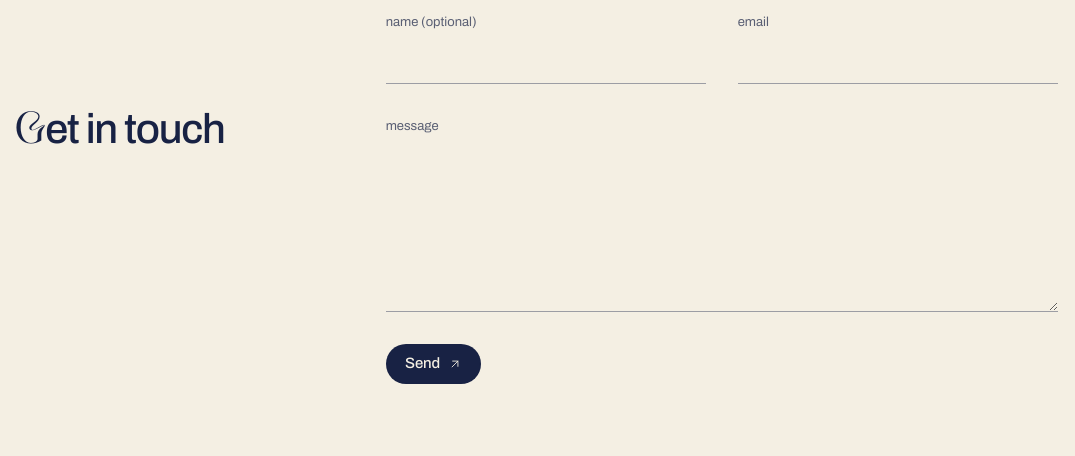
Test: blocks a second send within the cooldown
Type "a@b.co" into the field labelled "email" at [898, 61], box 738,38 -> 1058,84
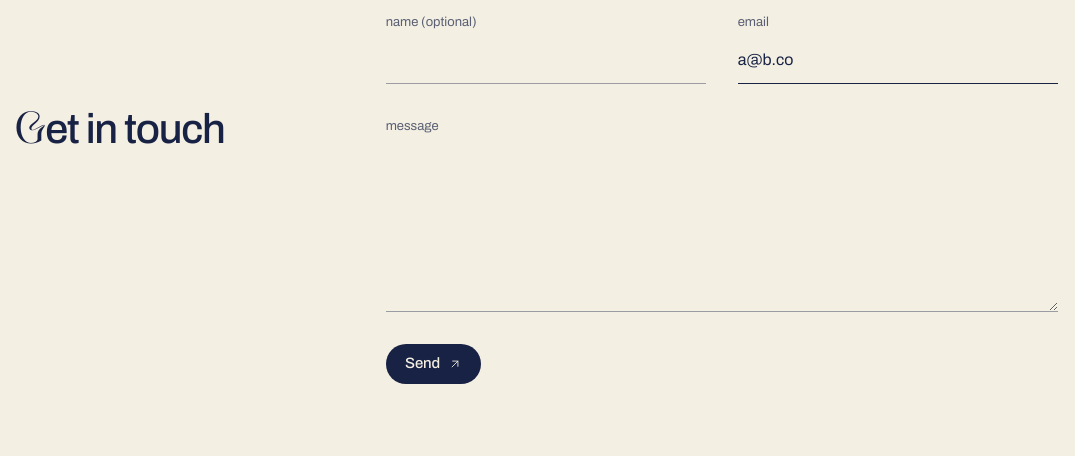
Type "hello <i>there</i>" into the text box labelled "message" at [722, 227], box 386,142 -> 1058,312
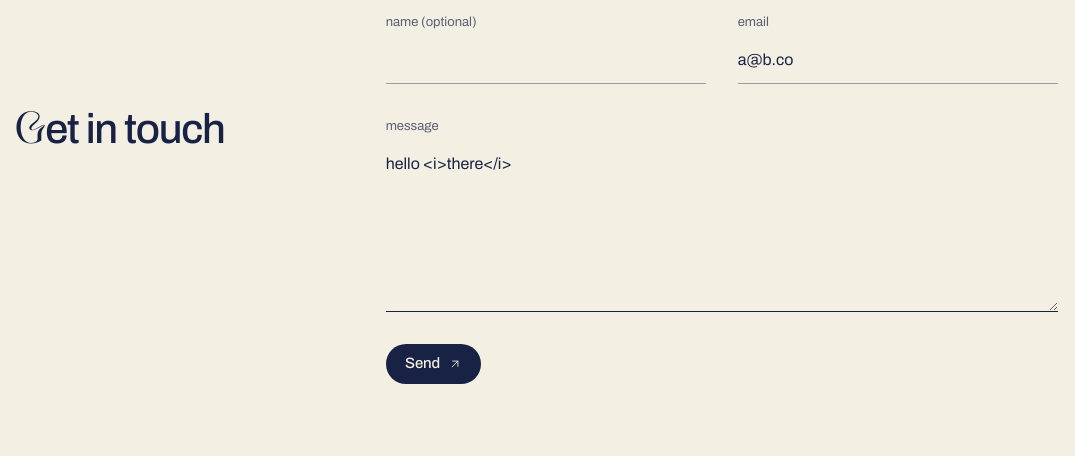
Click the button "Send" at [434, 364], box 386,344 -> 482,384
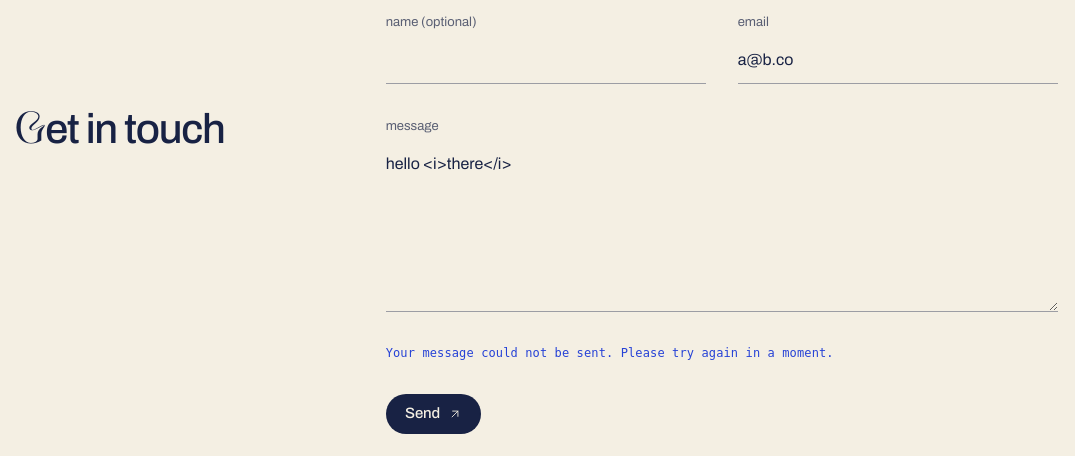
Expected: the message "Your message could not be sent. Please try again in a moment." is shown, 386,346 -> 834,360
Click the button "Send" at [434, 414], box 386,394 -> 482,434
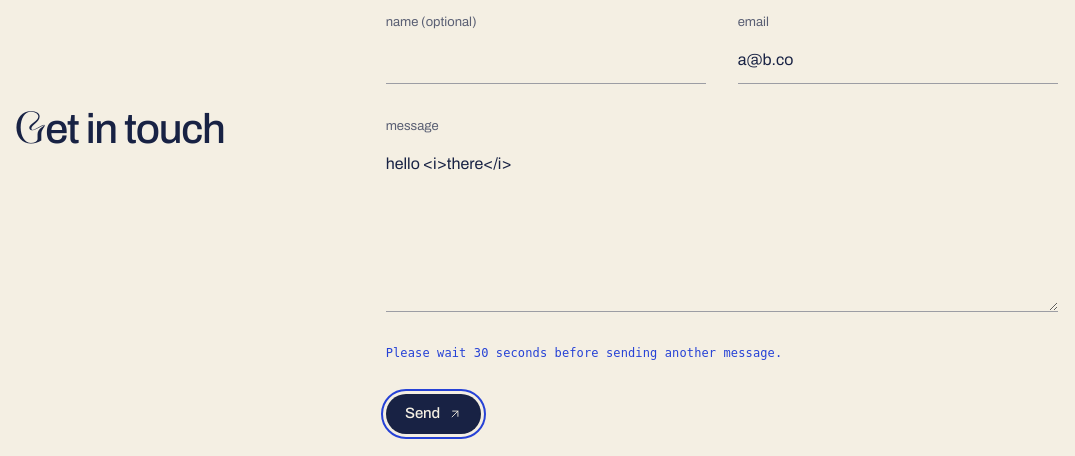
Expected: the message shows "wait 30 seconds", 386,346 -> 782,360
